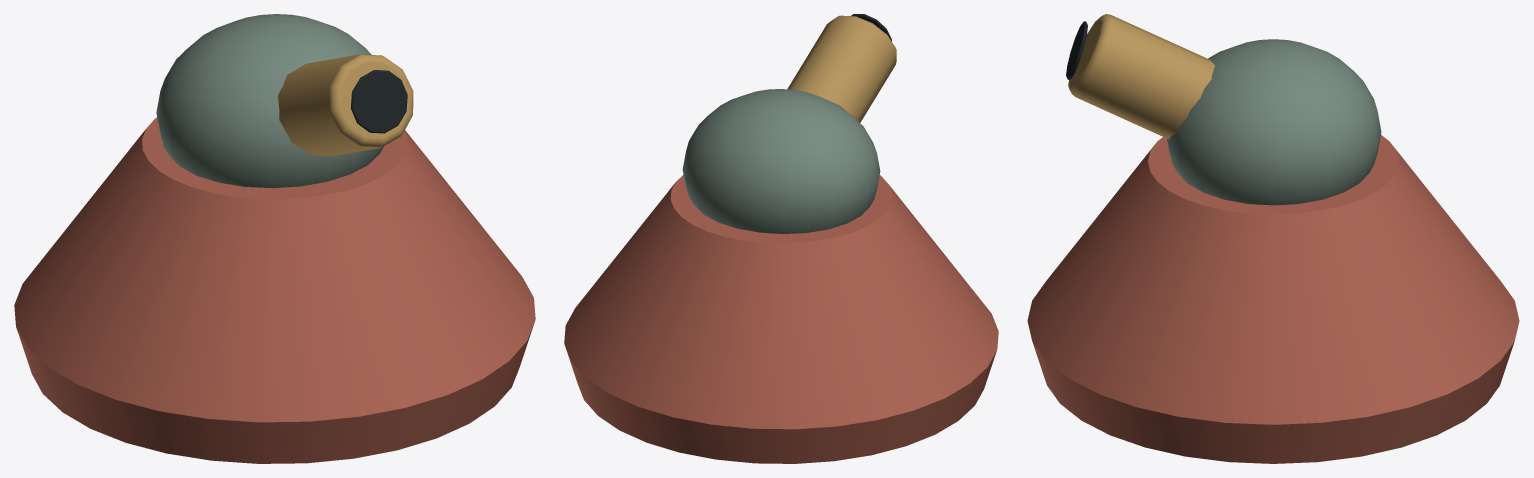
3 views of the same model, side by side, from view 1: azimuth 30°, elevation 25°; view 2: azimuth 150°, elevation 25°; view 3: azimuth 270°, elevation 25° (orthographic). The views are drawn at different scales.
Parts seen in each view (by area): view 1: Turret armoured pedestal, Weapon pivot, Weapon barrel, Weapon dark bore; view 2: Turret armoured pedestal, Weapon pivot, Weapon barrel; view 3: Turret armoured pedestal, Weapon pivot, Weapon barrel, Weapon dark bore.
Boxes of the visible parts, left/top/right/bottom form: Turret armoured pedestal: left=14, top=117, right=535, bottom=463; Weapon pivot: left=156, top=14, right=383, bottom=188; Weapon barrel: left=278, top=54, right=413, bottom=156; Weapon dark bore: left=350, top=70, right=407, bottom=133; Turret armoured pedestal: left=564, top=175, right=998, bottom=463; Weapon pivot: left=682, top=89, right=880, bottom=233; Weapon barrel: left=787, top=15, right=896, bottom=122; Turret armoured pedestal: left=1027, top=135, right=1519, bottom=463; Weapon pivot: left=1167, top=39, right=1381, bottom=205; Weapon barrel: left=1068, top=14, right=1214, bottom=139; Weapon dark bore: left=1066, top=21, right=1087, bottom=79.
Bounding box in the file's own units: 1.96 × 1.53 × 1.96.
